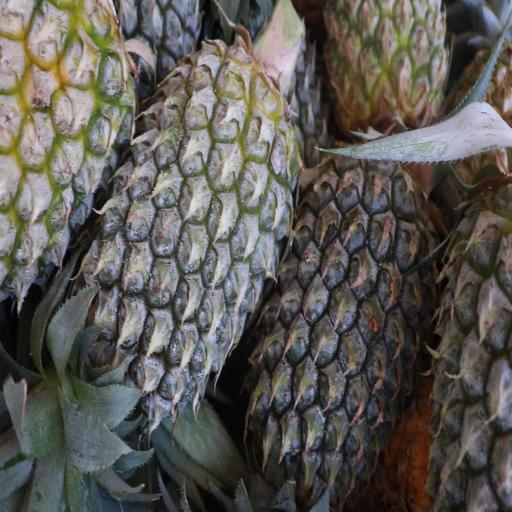------------------------------: (0, 0, 134, 289), (324, 0, 448, 137)
